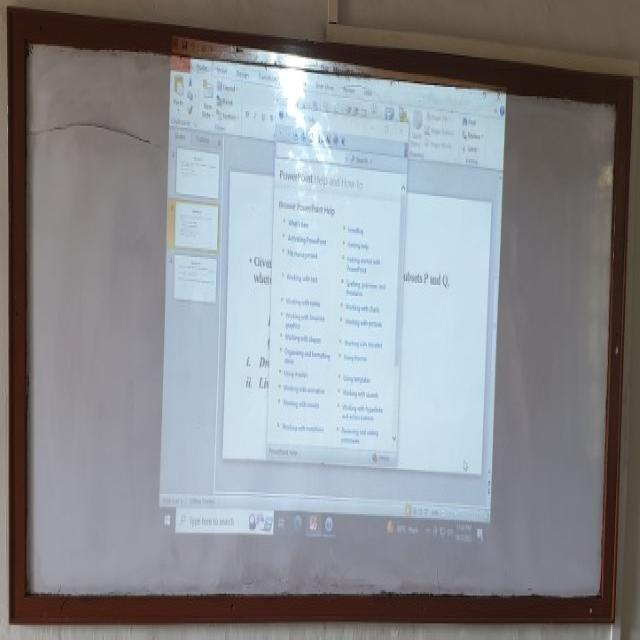Slide: (155, 37, 505, 557)
White-board: (16, 25, 625, 615)
